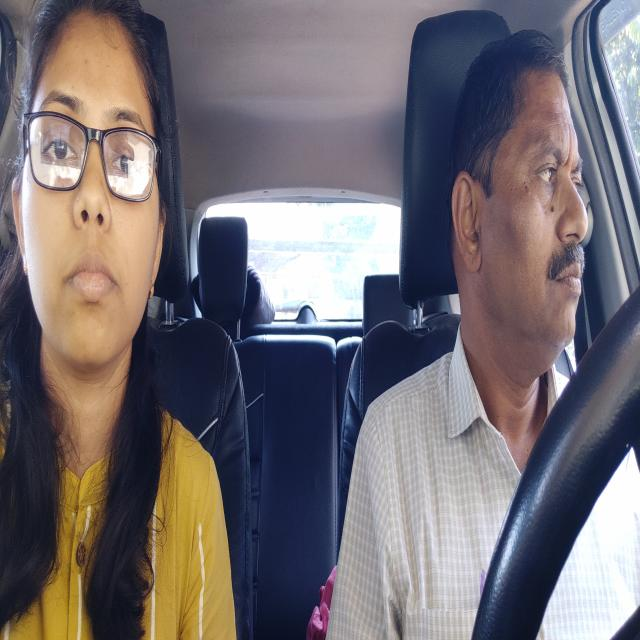LeftRight: (456, 70, 592, 352)
person: (26, 9, 159, 368)
